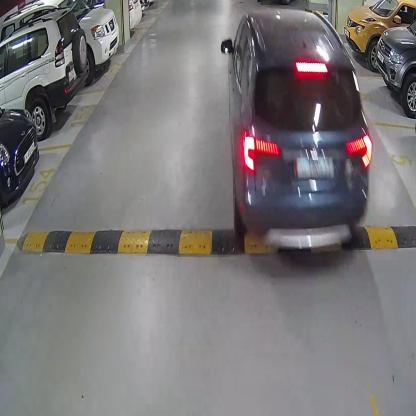np: (293, 151, 335, 182)
